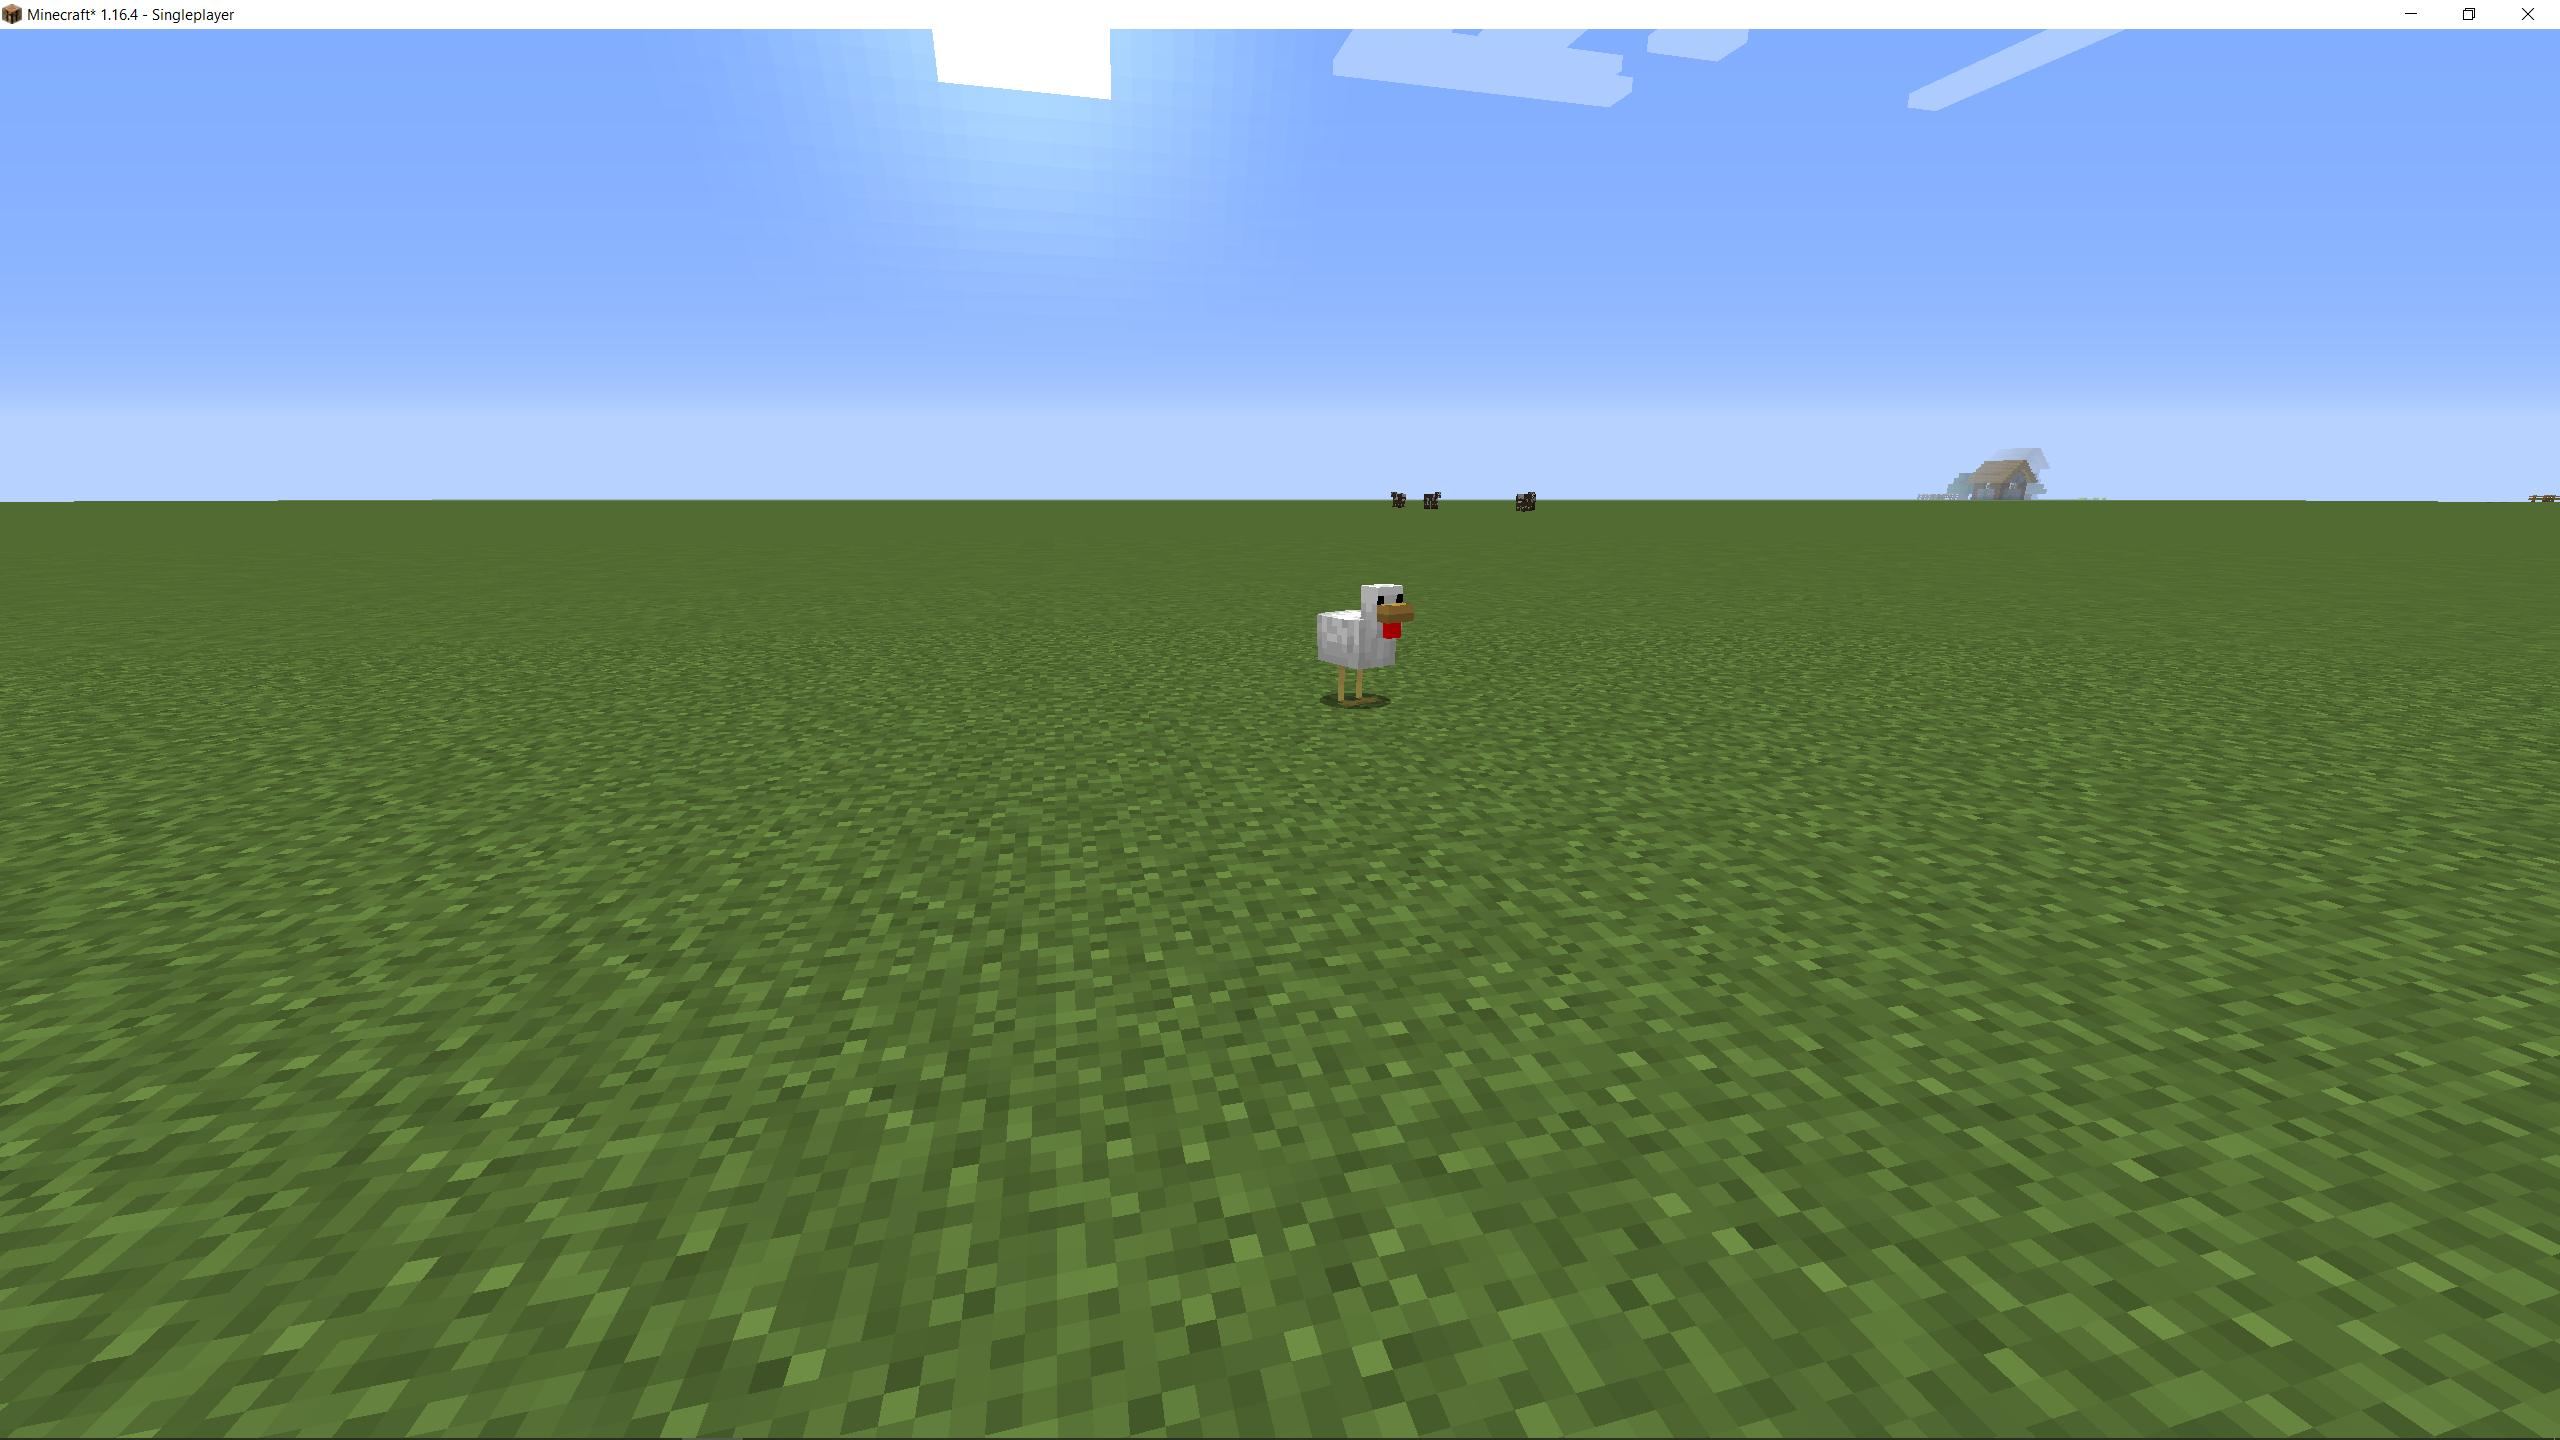chicken: (1306, 580, 1421, 712)
